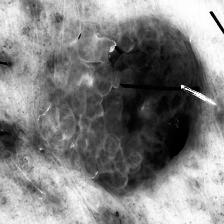Benign Marking or Mole: (34, 16, 200, 195)
